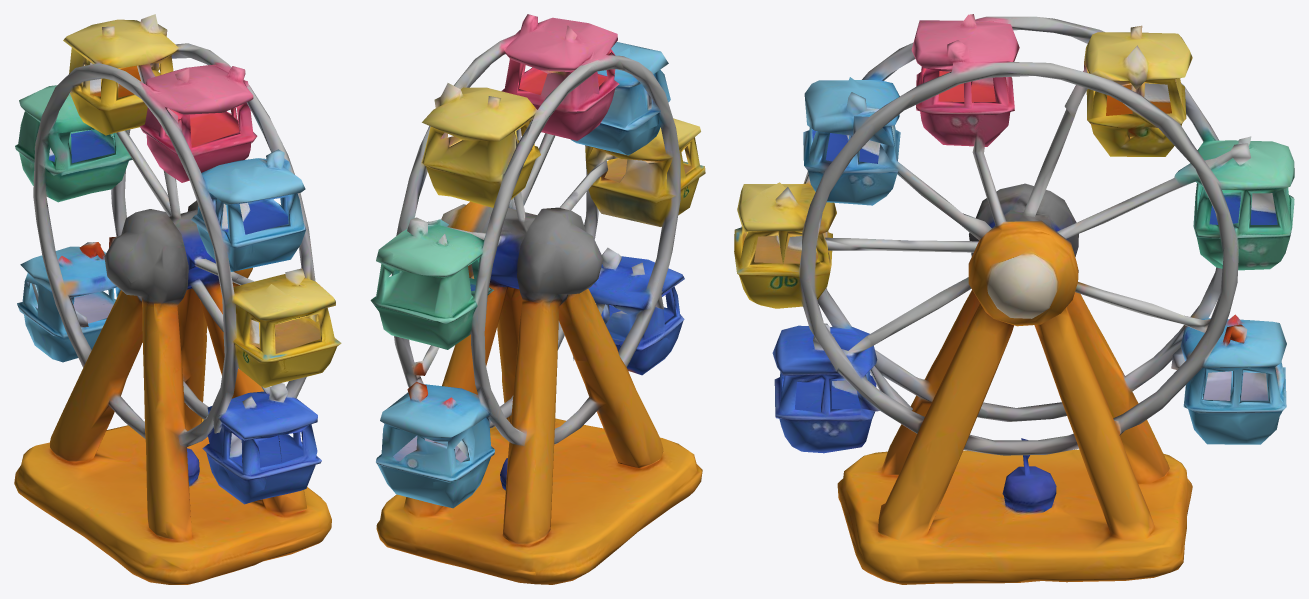
File: ferris.glb
3 views of the same model, side by side, from view 1: azimuth 30°, elevation 25°; view 2: azimuth 150°, elevation 25°; view 3: azimuth 270°, elevation 25° (orthographic). The views are drawn at different scales.
Parts seen in each view (by area): view 1: tripo_node_fe394be0-aaa8-46f3-b989-a5dd1646f6c7; view 2: tripo_node_fe394be0-aaa8-46f3-b989-a5dd1646f6c7; view 3: tripo_node_fe394be0-aaa8-46f3-b989-a5dd1646f6c7.
Part boxes in pixels (x1,y1,x2,y2): tripo_node_fe394be0-aaa8-46f3-b989-a5dd1646f6c7: [14, 14, 341, 584]; tripo_node_fe394be0-aaa8-46f3-b989-a5dd1646f6c7: [370, 14, 705, 584]; tripo_node_fe394be0-aaa8-46f3-b989-a5dd1646f6c7: [734, 14, 1294, 584].
Bounding box in the file's own units: 0.4697 × 1 × 0.9899.
1 material, 1 textured.
